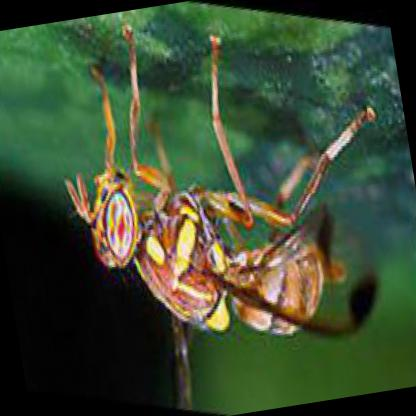fruit fly: (63, 25, 376, 344)
